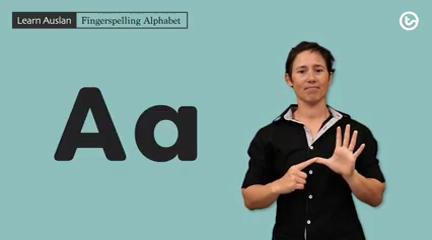A: (275, 122, 367, 196)
